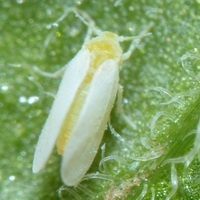insect: (32, 19, 150, 185)
